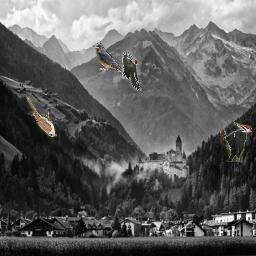Cuckoo: (27, 97, 57, 137)
Swallow: (94, 43, 122, 73)
Woodpecker: (220, 122, 252, 162), (122, 51, 142, 91)
